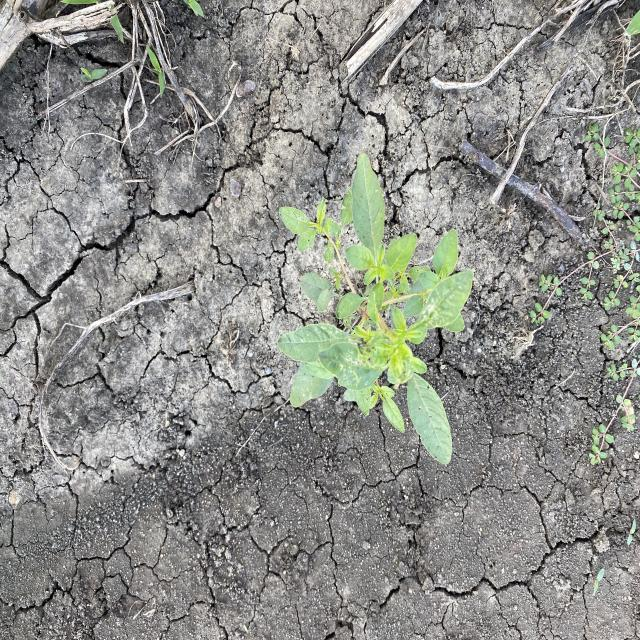SpottedSpurge: (527, 123, 639, 470)
Waterhemp: (276, 151, 476, 471)
